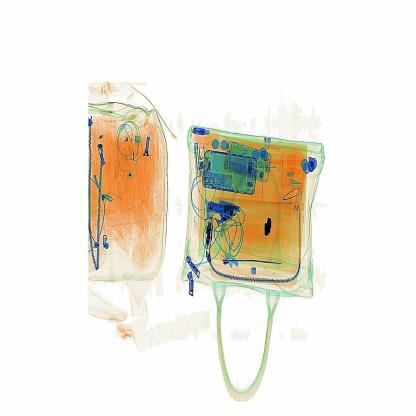knife: (259, 209, 278, 243)
